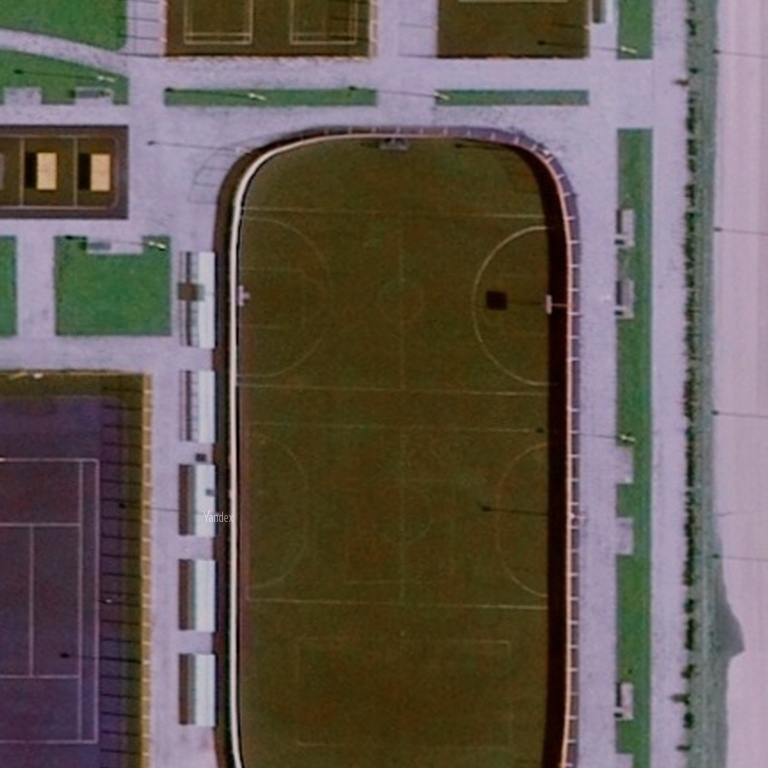basket_court: (221, 201, 585, 406), (221, 415, 580, 621)
